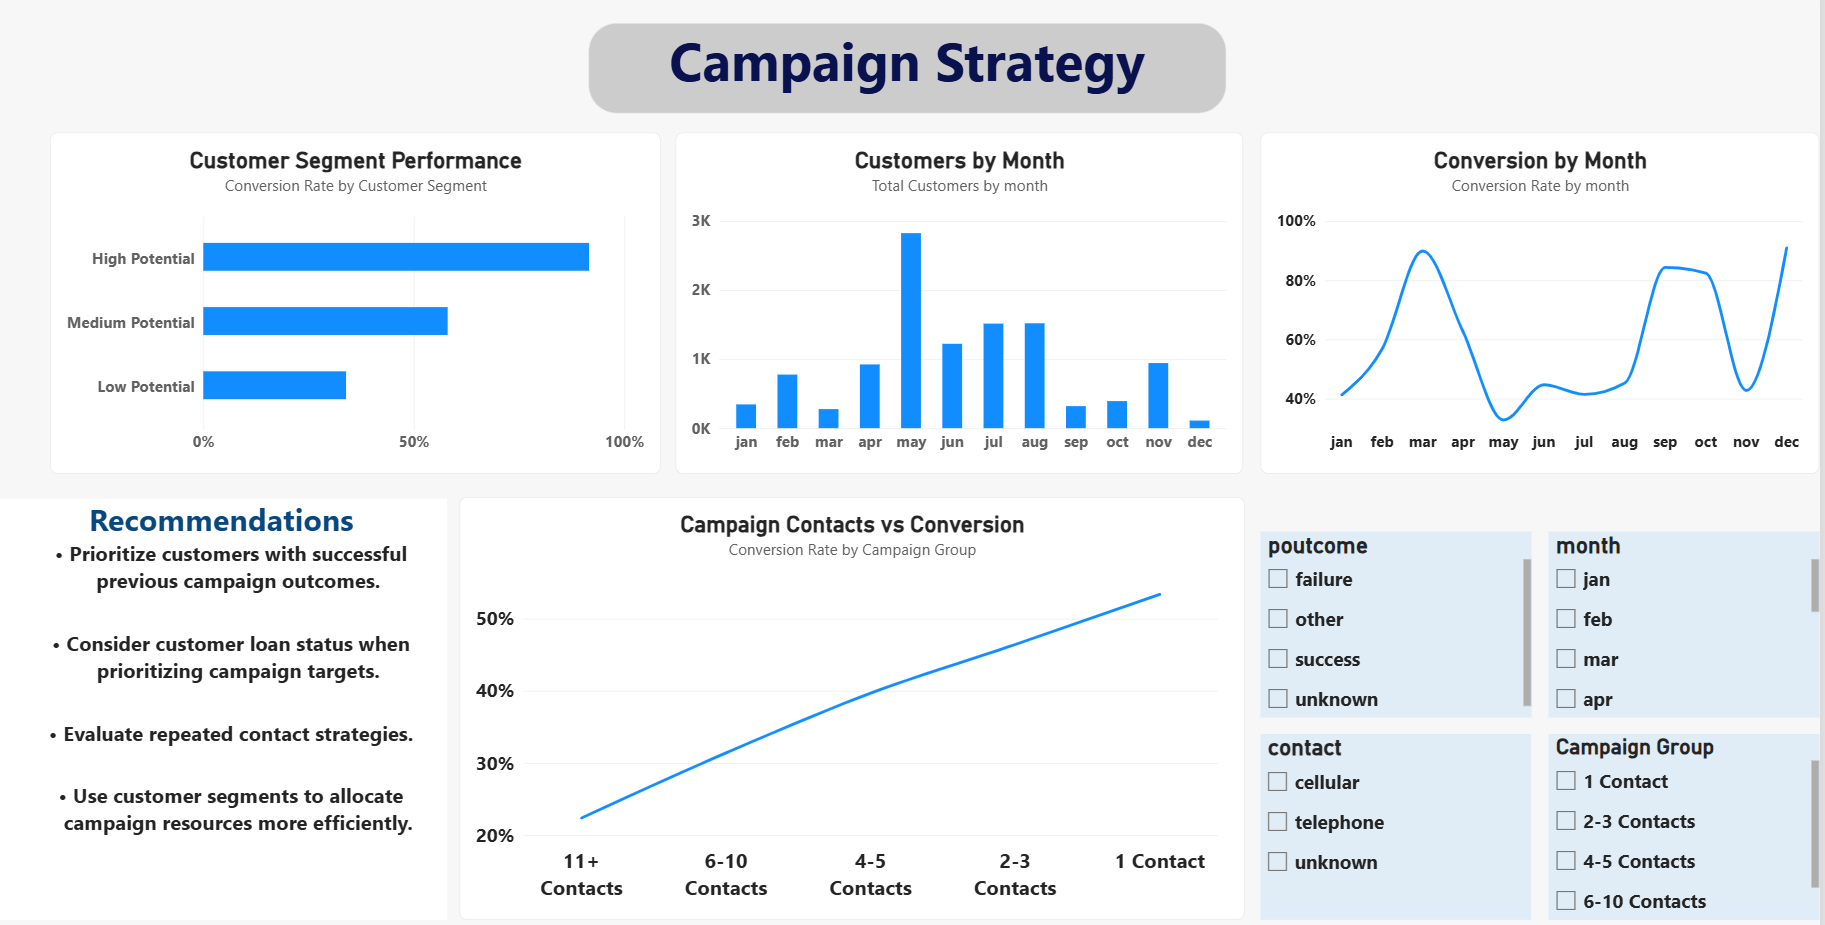

The dashboard page shown, as its layout file describes it:
{"tool":"powerbi","page":{"name":"Page 3","canvas":[1920,1080],"ordinal":2},"visuals":[{"type":"textbox","box":[622.5,37.5,672.5,95],"z":0},{"type":"lineChart","title":"Campaign Contacts vs Conversion","fields":{"Category":["bank.Campaign Group"],"Y":["bank.Conversion Rate"]},"box":[484.9,537.9,827.9,445.9],"z":2000},{"type":"lineChart","title":"Conversion by Month","fields":{"Category":["bank.month"],"Y":["bank.Conversion Rate"]},"box":[1330,152.8,589.4,360.2],"z":3000},{"type":"columnChart","title":"Customers by Month","fields":{"Category":["bank.month"],"Y":["bank.Total Customers"]},"box":[714.1,152.8,598.7,360.2],"z":4000},{"type":"barChart","title":"Customer Segment Performance","fields":{"Category":["bank.Customer Segment"],"Y":["bank.Conversion Rate"]},"box":[54.6,152.8,644,360.2],"z":6000},{"type":"slicer","fields":{"Values":["bank.contact"]},"box":[1330,787.4,285,196],"z":7000},{"type":"slicer","fields":{"Values":["bank.poutcome"]},"box":[1330,573.8,285,196],"z":8000},{"type":"slicer","fields":{"Values":["bank.Campaign Group"]},"box":[1634.1,787.4,285,196],"z":9000},{"type":"slicer","fields":{"Values":["bank.month"]},"box":[1634.1,573.8,285,196],"z":10000},{"type":"textbox","box":[0,539.4,472.8,444.5],"z":10001}]}

Visuals, with their boxes on the page's 1920x1080 design canvas (x1, y1, x2, y2). These are canvas units, not pixel positions in the 1825x925 screenshot, which may show the page scaled, cropped or inside an application window:
textbox: crop(622, 38, 1295, 132)
"Campaign Contacts vs Conversion" lineChart: crop(485, 538, 1313, 984)
"Conversion by Month" lineChart: crop(1330, 153, 1919, 513)
"Customers by Month" columnChart: crop(714, 153, 1313, 513)
"Customer Segment Performance" barChart: crop(55, 153, 699, 513)
slicer - bank.contact: crop(1330, 787, 1615, 983)
slicer - bank.poutcome: crop(1330, 574, 1615, 770)
slicer - bank.Campaign Group: crop(1634, 787, 1919, 983)
slicer - bank.month: crop(1634, 574, 1919, 770)
textbox: crop(0, 539, 473, 984)
